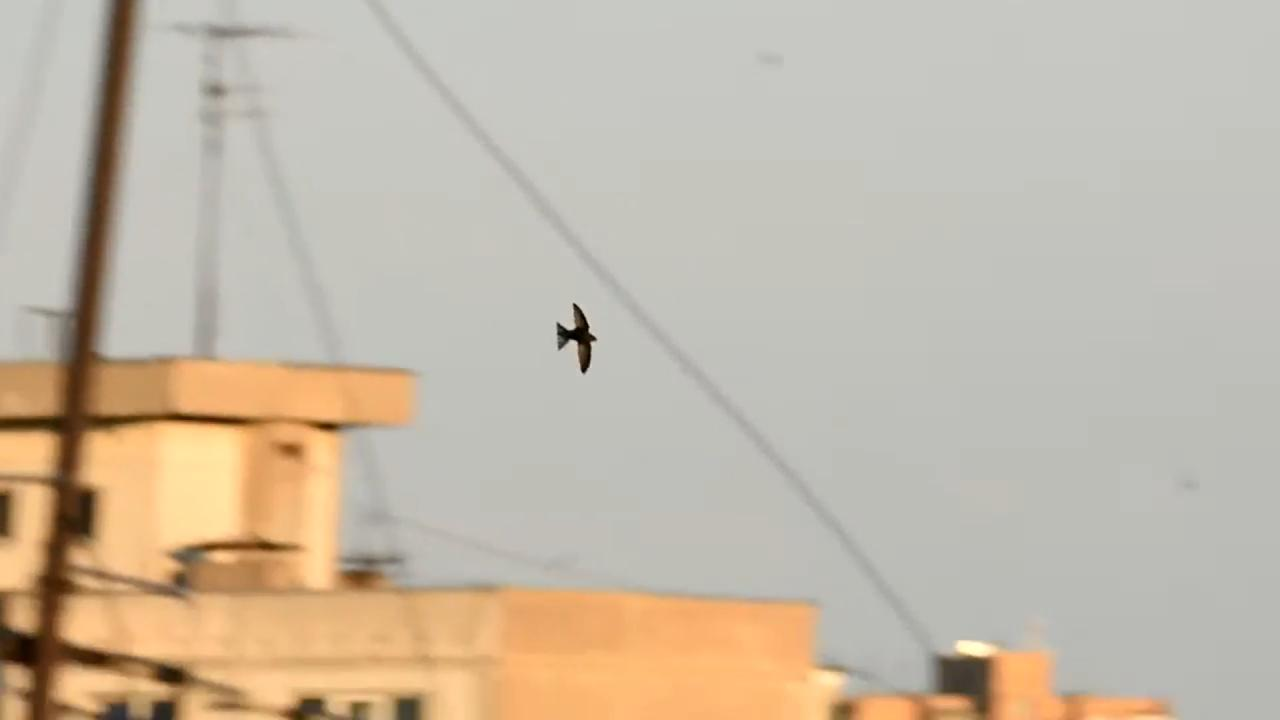Bird: (546, 287, 608, 386)
